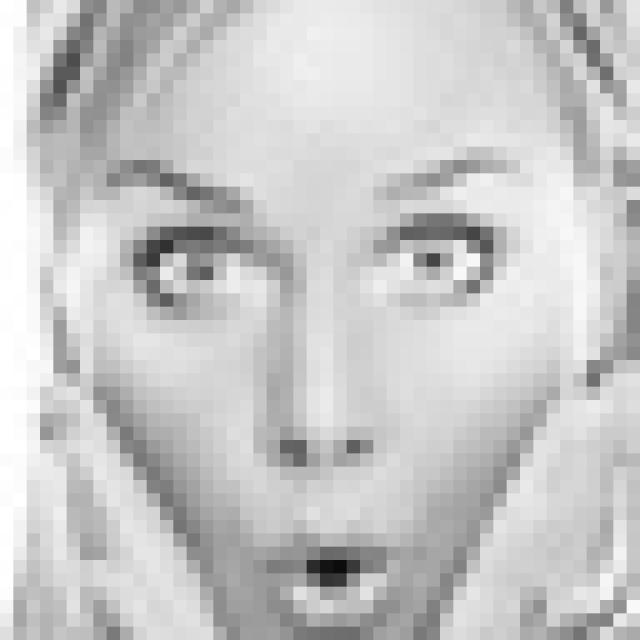surprise: (96, 151, 553, 640)
